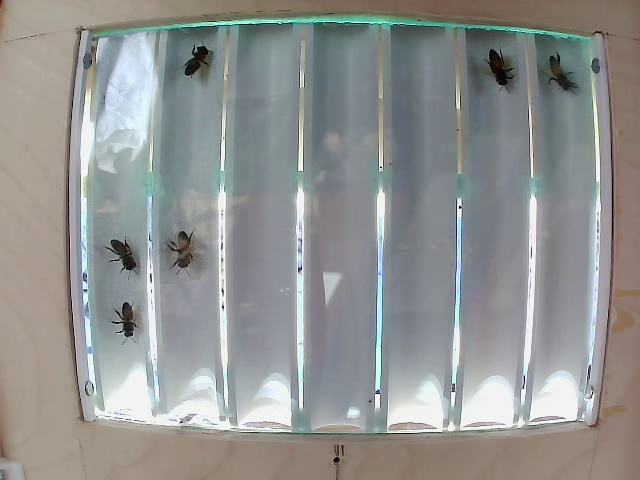bee: (111, 231, 147, 285), (169, 236, 208, 284), (485, 50, 521, 102), (549, 52, 581, 108), (177, 42, 214, 81), (106, 297, 138, 339)
